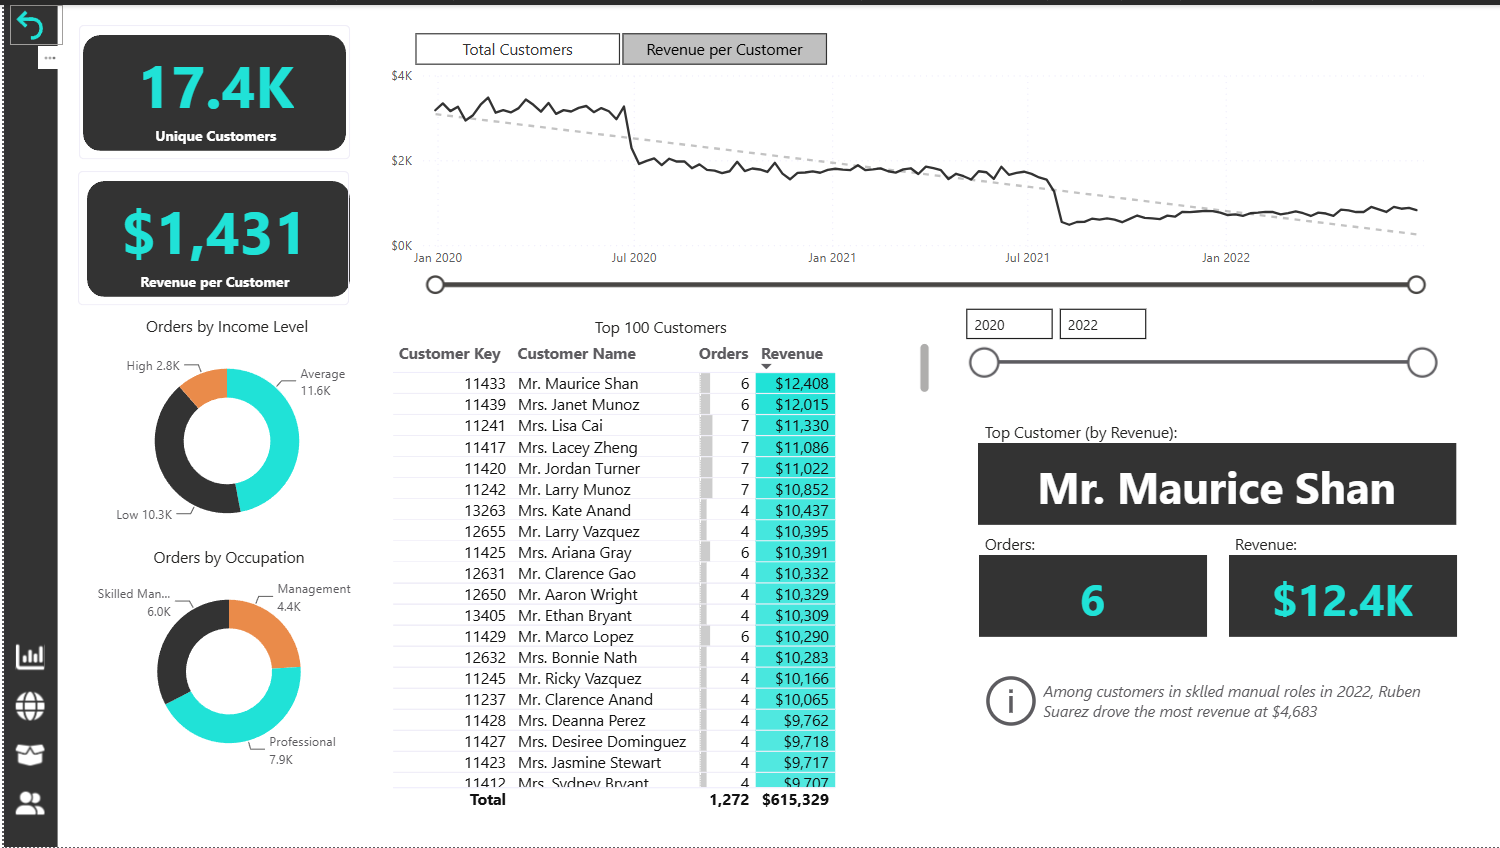

The dashboard page shown, as its layout file describes it:
{"tool":"powerbi","page":{"name":"Customer Detail","canvas":[1280,720],"ordinal":3},"visuals":[{"type":"lineChart","fields":{"Category":["Calendar Lookup.Date Hierarchy.Start of Year","Calendar Lookup.Date Hierarchy.Start of Month","Calendar Lookup.Date Hierarchy.Start of Week","Calendar Lookup.Date Hierarchy.Date"],"Y":["Measure Table.Average Revenue per Customer"]},"box":[326.2,45.8,908,204.1],"z":0},{"type":"actionButton","box":[0,541.6,45,32.6],"z":0,"group":"g3"},{"type":"shape","box":[0,0,45.8,720],"z":1000},{"type":"shape","box":[67.4,26,224.9,99.2],"z":1000,"group":"g2"},{"type":"actionButton","box":[0,583.4,45,32.6],"z":1000,"group":"g3"},{"type":"group","id":"g1","title":"Group 1","box":[45.8,124.6,266.8,150.4],"z":2000},{"type":"shape","box":[70.8,150.6,224.9,99.2],"z":2000,"group":"g1"},{"type":"actionButton","box":[0,625.1,45,32.6],"z":2000,"group":"g3"},{"type":"cardVisual","fields":{"Data":["Measure Table.Total Customers"]},"box":[47,0,266.7,149.7],"z":3000,"group":"g2"},{"type":"group","id":"g2","title":"Group 2","box":[47,0,266.8,150.4],"z":3000},{"type":"actionButton","box":[0,666.9,45,32.6],"z":3000,"group":"g3"},{"type":"cardVisual","fields":{"Data":["Measure Table.Average Revenue per Customer"]},"box":[45.8,124.6,266.7,149.7],"z":4000,"group":"g1"},{"type":"donutChart","title":"Orders by Income Level","fields":{"Category":["Customer Lookup.Income Level"],"Y":["Measure Table.Total Orders"]},"box":[67.6,265.9,246.3,196.7],"z":4000},{"type":"donutChart","title":"Orders by Occupation","fields":{"Series":["Customer Lookup.Occupation"],"Y":["Measure Table.Total Orders"]},"box":[71,463.5,242.9,195.8],"z":5000},{"type":"tableEx","title":"Top 100 Customers","fields":{"Values":["Customer Lookup.CustomerKey","Customer Lookup.Customer Full Name (CC)","Measure Table.Total Orders","Measure Table.Total Revenue"]},"box":[326.2,266.4,469.9,425],"z":6000},{"type":"cardVisual","fields":{"Data":["Customer Lookup.Full Name (Customer Detail)"]},"box":[832.8,374.7,408.7,70.1],"z":7000},{"type":"cardVisual","fields":{"Data":["Measure Table.Total Orders (Customer Detail)"]},"box":[833.7,470.4,195,70],"z":8000},{"type":"cardVisual","fields":{"Data":["Measure Table.Total Revenue (Customer Detail)"]},"box":[1047.5,470.4,195,70],"z":9000},{"type":"textbox","box":[1047.5,446.8,195,32.8],"z":10000},{"type":"textbox","box":[833.4,446.8,195,32.8],"z":11000},{"type":"textbox","box":[833.4,351.2,195,32.8],"z":12000},{"type":"slicer","fields":{"Values":["Calendar Lookup.Year"]},"box":[809.8,249.7,424.1,86.4],"z":13000},{"type":"actionButton","box":[5.1,0,45.3,34.2],"z":14000},{"type":"actionButton","box":[833.6,568.1,408.4,54.7],"z":15000},{"type":"group","id":"g3","title":"Navigation Buttons","box":[0,541.6,45,157.9],"z":16000},{"type":"slicer","fields":{"Values":["Customer Metric Selection.Customer Metric Selection"]},"box":[326.2,17.2,401.5,41],"z":17000}]}

Visuals, with their boxes on the page's 1280x720 design canvas (x1, y1, x2, y2). These are canvas units, not pixel positions in the 1500x848 screenshot, which may show the page scaled, cropped or inside an application window:
lineChart - Calendar Lookup.Date Hierarchy.Start of Year x Calendar Lookup.Date Hierarchy.Start of Month: [left=326, top=46, right=1234, bottom=250]
actionButton: [left=0, top=542, right=45, bottom=574]
shape: [left=0, top=0, right=46, bottom=720]
shape: [left=67, top=26, right=292, bottom=125]
actionButton: [left=0, top=583, right=45, bottom=616]
"Group 1" group: [left=46, top=125, right=313, bottom=275]
shape: [left=71, top=151, right=296, bottom=250]
actionButton: [left=0, top=625, right=45, bottom=658]
cardVisual - Measure Table.Total Customers: [left=47, top=0, right=314, bottom=150]
"Group 2" group: [left=47, top=0, right=314, bottom=150]
actionButton: [left=0, top=667, right=45, bottom=700]
cardVisual - Measure Table.Average Revenue per Customer: [left=46, top=125, right=312, bottom=274]
"Orders by Income Level" donutChart: [left=68, top=266, right=314, bottom=463]
"Orders by Occupation" donutChart: [left=71, top=464, right=314, bottom=659]
"Top 100 Customers" tableEx: [left=326, top=266, right=796, bottom=691]
cardVisual - Customer Lookup.Full Name (Customer Detail): [left=833, top=375, right=1242, bottom=445]
cardVisual - Measure Table.Total Orders (Customer Detail): [left=834, top=470, right=1029, bottom=540]
cardVisual - Measure Table.Total Revenue (Customer Detail): [left=1048, top=470, right=1242, bottom=540]
textbox: [left=1048, top=447, right=1242, bottom=480]
textbox: [left=833, top=447, right=1028, bottom=480]
textbox: [left=833, top=351, right=1028, bottom=384]
slicer - Calendar Lookup.Year: [left=810, top=250, right=1234, bottom=336]
actionButton: [left=5, top=0, right=50, bottom=34]
actionButton: [left=834, top=568, right=1242, bottom=623]
"Navigation Buttons" group: [left=0, top=542, right=45, bottom=700]
slicer - Customer Metric Selection.Customer Metric Selection: [left=326, top=17, right=728, bottom=58]
